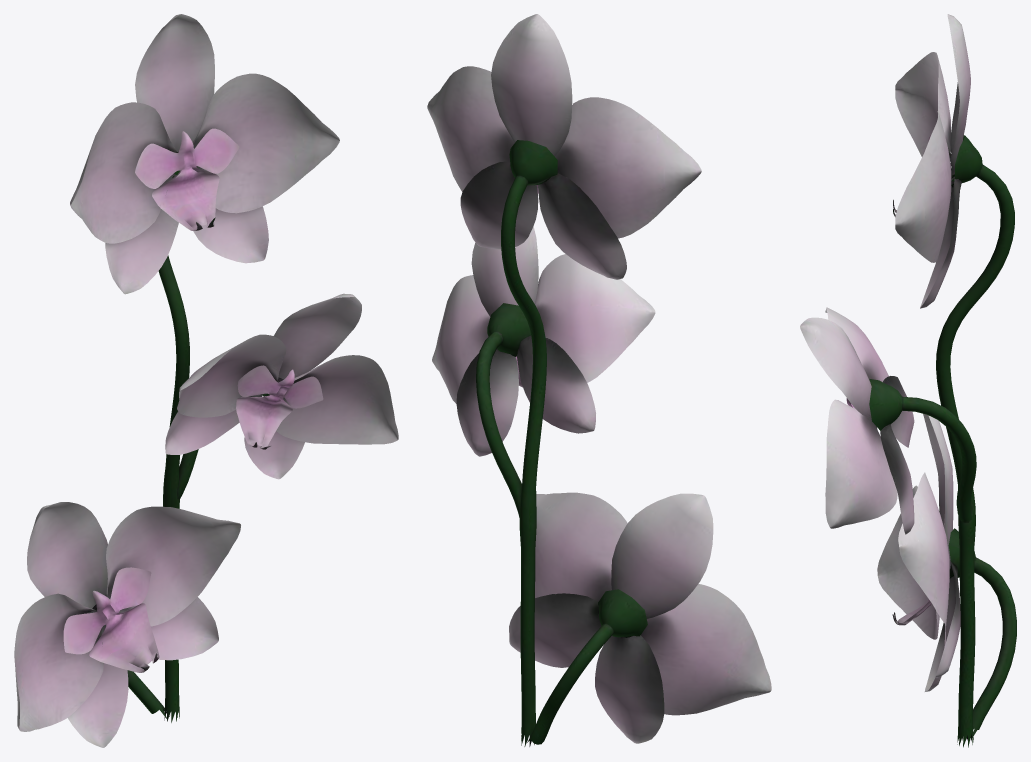
3 renders of one model, left to right at view 1: azimuth 30°, elevation 25°; view 2: azimuth 150°, elevation 25°; view 3: azimuth 270°, elevation 25°, orthographic. The views are drawn at different scales.
Visible parts, largest first — view 1: a30118c4; view 2: a30118c4; view 3: a30118c4.
Boxes of the visible parts, x1,y1,x2,y2 form: a30118c4: (14,14,398,747); a30118c4: (427,14,771,746); a30118c4: (800,14,1016,747).
Bounding box in the file's own units: 0.1187 × 0.2268 × 0.0611.
Materials: 1 (1 with a texture image).
